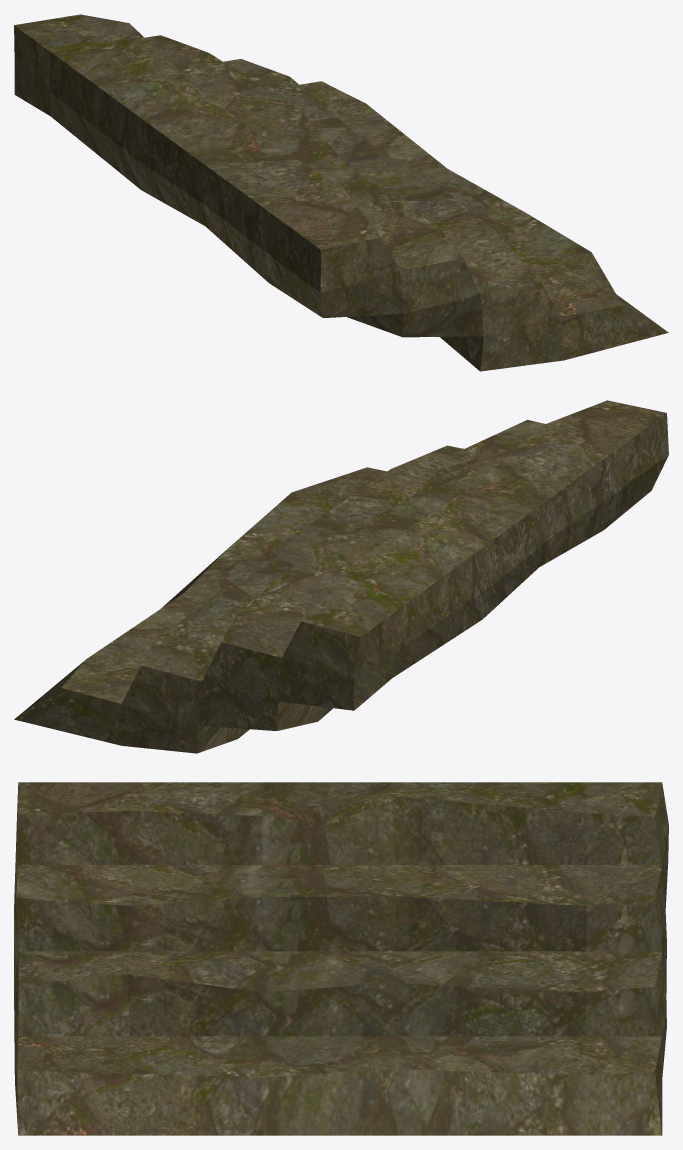
Rendered from stairs_GEO.fbx.
3 renders of one model, top to bottom at view 1: azimuth 30°, elevation 25°; view 2: azimuth 150°, elevation 25°; view 3: azimuth 270°, elevation 25°, orthographic. The views are drawn at different scales.
Parts seen in each view (by area): view 1: stairs_GEO; view 2: stairs_GEO; view 3: stairs_GEO.
Boxes of the visible parts, x1,y1,x2,y2 form: stairs_GEO: (14, 14, 668, 371); stairs_GEO: (14, 400, 668, 753); stairs_GEO: (14, 782, 668, 1135).
Size of the model in its own units: 2.84 by 1.42 by 4.38.
